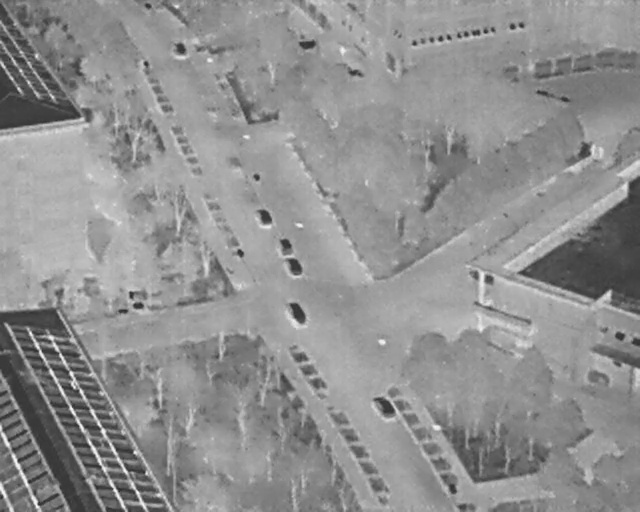Car: (373, 392, 396, 420), (287, 299, 308, 327), (285, 254, 304, 277), (256, 206, 274, 227), (277, 236, 293, 256), (172, 40, 188, 57)
